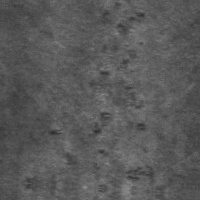rolled-in_scale: (88, 55, 153, 190), (98, 0, 149, 51), (112, 155, 161, 193)
